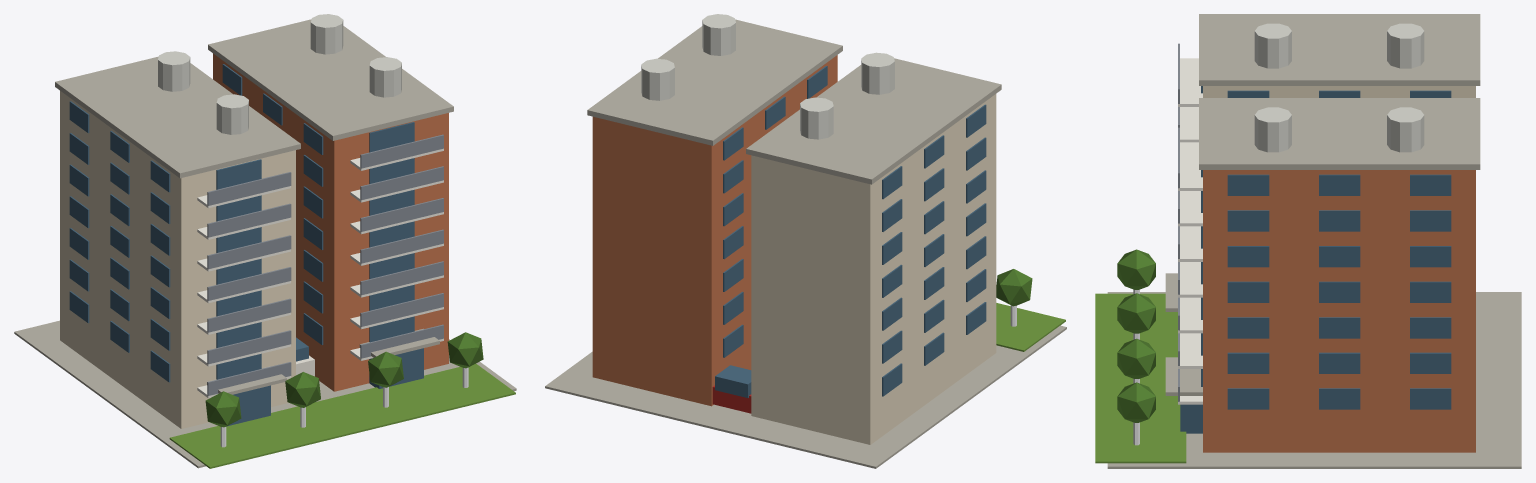
File: site.glb
The picture shows the model from 3 angles, left to right: view 1: azimuth 30°, elevation 25°; view 2: azimuth 150°, elevation 25°; view 3: azimuth 270°, elevation 25°; orthographic projection. The views are drawn at different scales.
Parts seen in each view (by area): view 1: Bahce; view 2: Bahce; view 3: Bahce.
Boxes of the visible parts, <box> form: Bahce: <box>14,14,516,468</box>; Bahce: <box>545,14,1066,468</box>; Bahce: <box>1095,14,1521,468</box>.
Size of the model in its own units: 0.9709 by 0.835 by 1.
